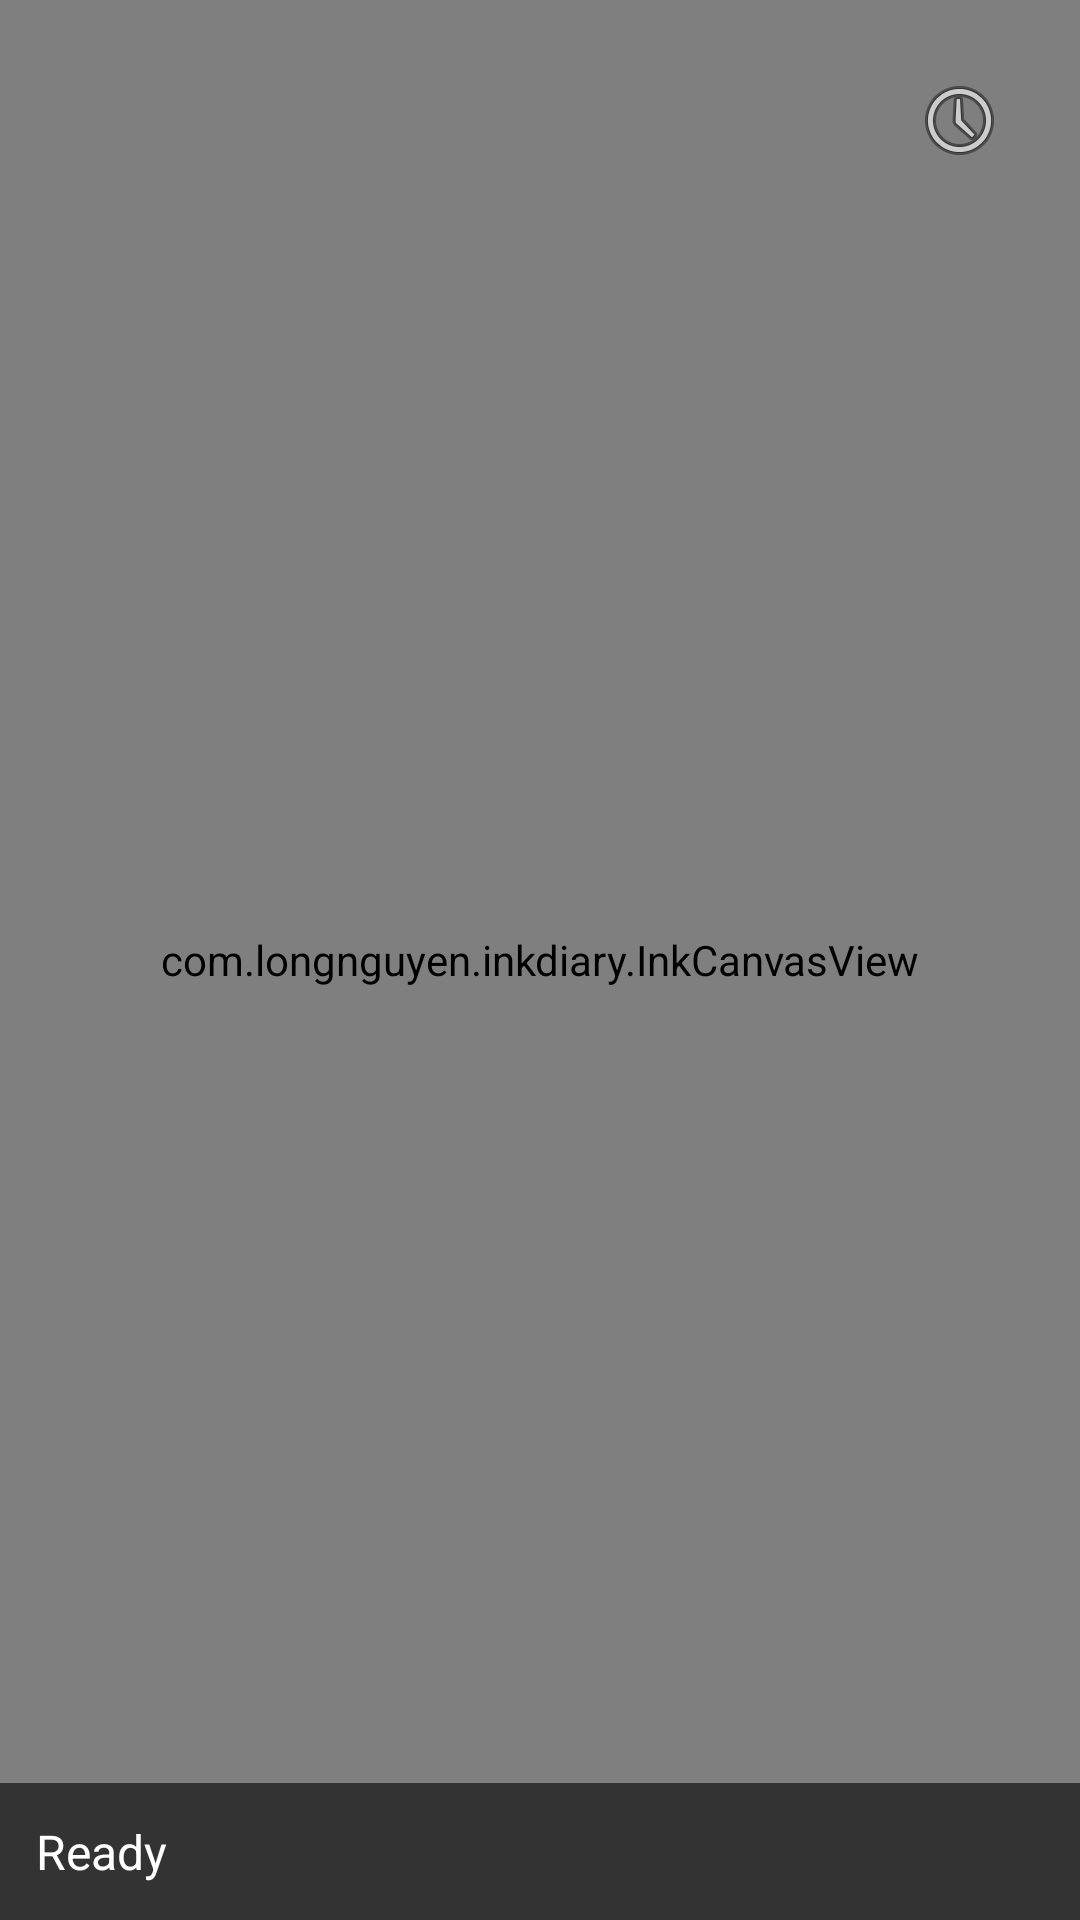

Icon click points for this 1080px×1920px phone screenshot, format (x,y):
History: (959,120)
